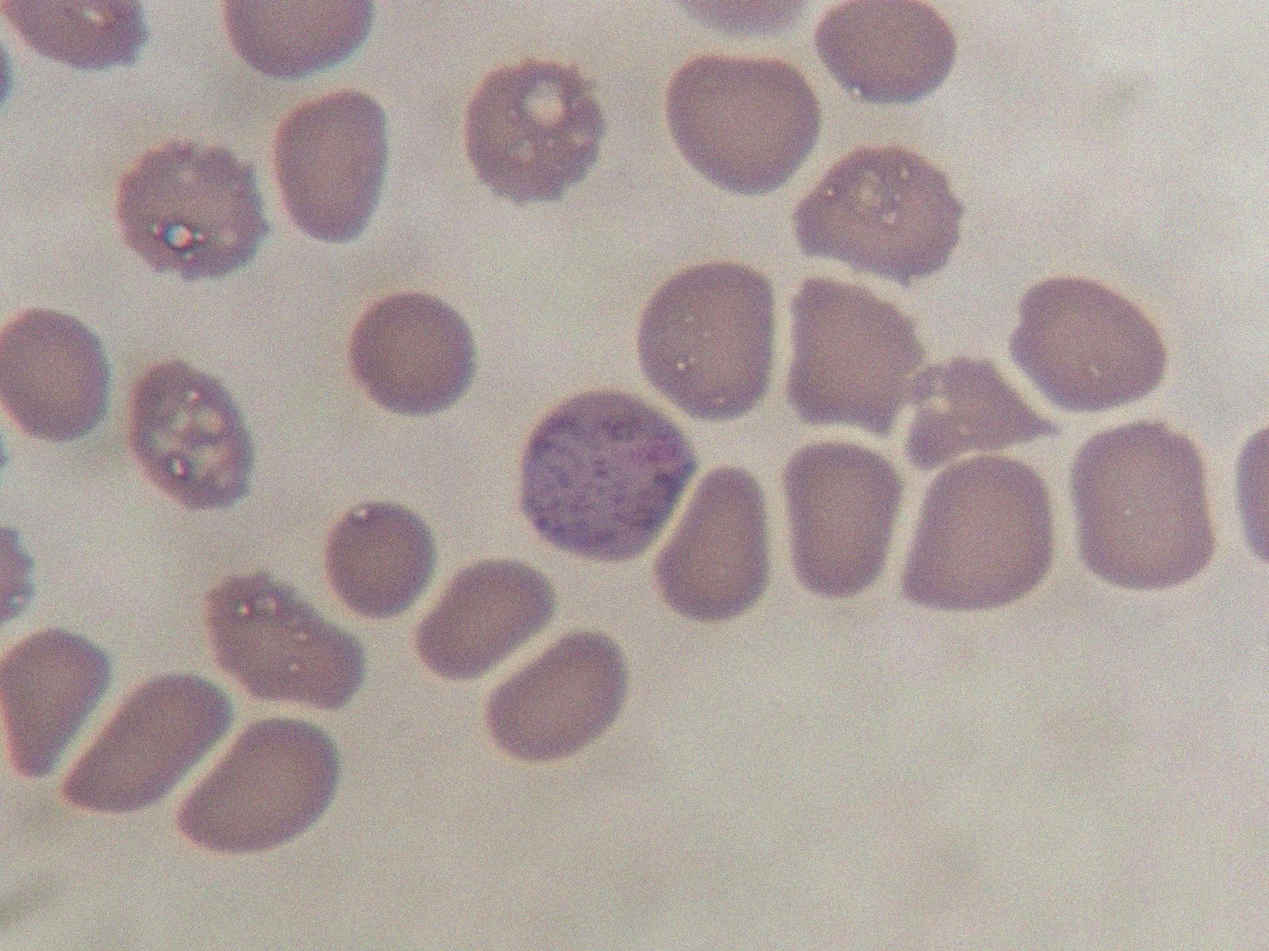Infected: (516, 384, 701, 559)
Uninfected: (1069, 415, 1219, 586), (59, 670, 239, 808), (903, 455, 1052, 608), (110, 137, 270, 279), (789, 142, 958, 276), (1005, 269, 1160, 415), (670, 49, 827, 193), (183, 712, 336, 858), (211, 565, 363, 711), (634, 267, 773, 424), (458, 60, 605, 204), (789, 276, 919, 431), (483, 624, 623, 765), (892, 349, 1060, 464), (123, 360, 254, 506), (782, 441, 900, 600), (416, 551, 561, 678), (273, 91, 386, 248), (657, 468, 768, 618), (344, 292, 480, 414), (0, 629, 106, 775), (0, 305, 110, 440), (317, 499, 432, 628)
